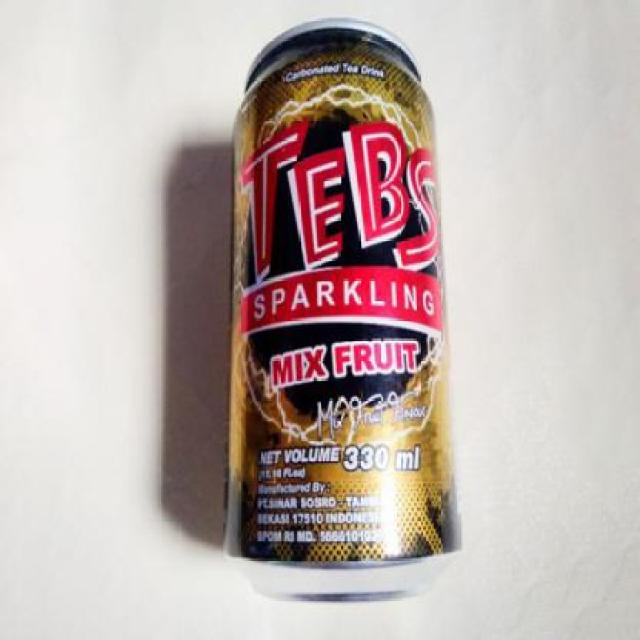Metal: (222, 16, 465, 605)
